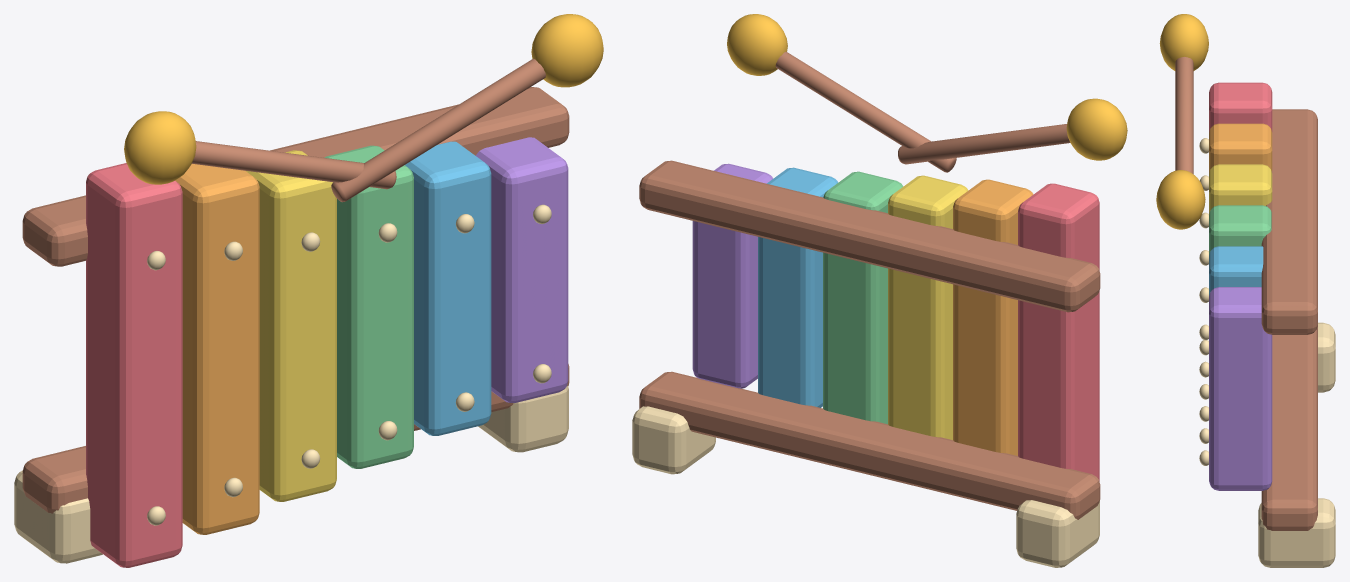
Rendered from xylophone.glb.
3 renders of one model, left to right at view 1: azimuth 30°, elevation 25°; view 2: azimuth 150°, elevation 25°; view 3: azimuth 270°, elevation 25°, orthographic. The views are drawn at different scales.
Parts seen in each view (by area): view 1: CMP_Music_Xylophone, CMP_Music_Xylophone_Rail_Top, CMP_Music_Xylophone_Mallet_R, CMP_Music_Xylophone_MalletHead_L, CMP_Music_Xylophone_Foot, CMP_Music_Xylophone_Mallet_L, CMP_Music_Xylophone_MalletHead_R, CMP_Music_Xylophone_Foot.001, CMP_Music_Xylophone_Rail_Bottom; view 2: CMP_Music_Xylophone, CMP_Music_Xylophone_Rail_Top, CMP_Music_Xylophone_Rail_Bottom, CMP_Music_Xylophone_Foot, CMP_Music_Xylophone_Foot.001, CMP_Music_Xylophone_Mallet_R, CMP_Music_Xylophone_Mallet_L, CMP_Music_Xylophone_MalletHead_L, CMP_Music_Xylophone_MalletHead_R; view 3: CMP_Music_Xylophone, CMP_Music_Xylophone_Rail_Top, CMP_Music_Xylophone_Rail_Bottom, CMP_Music_Xylophone_Foot.001, CMP_Music_Xylophone_MalletHead_R, CMP_Music_Xylophone_Mallet_L, CMP_Music_Xylophone_MalletHead_L, CMP_Music_Xylophone_Foot.
Part boxes in pixels (x1=…): CMP_Music_Xylophone: x1=86, y1=137, x2=568, y2=567; CMP_Music_Xylophone_Rail_Top: x1=22, y1=87, x2=569, y2=266; CMP_Music_Xylophone_Mallet_R: x1=331, y1=58, x2=545, y2=202; CMP_Music_Xylophone_MalletHead_L: x1=124, y1=111, x2=196, y2=184; CMP_Music_Xylophone_Foot: x1=14, y1=470, x2=102, y2=563; CMP_Music_Xylophone_Mallet_L: x1=192, y1=141, x2=396, y2=189; CMP_Music_Xylophone_MalletHead_R: x1=531, y1=14, x2=603, y2=87; CMP_Music_Xylophone_Foot.001: x1=478, y1=386, x2=568, y2=452; CMP_Music_Xylophone_Rail_Bottom: x1=22, y1=364, x2=569, y2=513; CMP_Music_Xylophone: x1=692, y1=163, x2=1099, y2=481; CMP_Music_Xylophone_Rail_Top: x1=639, y1=160, x2=1100, y2=312; CMP_Music_Xylophone_Rail_Bottom: x1=639, y1=371, x2=1100, y2=519; CMP_Music_Xylophone_Foot: x1=1016, y1=500, x2=1099, y2=567; CMP_Music_Xylophone_Foot.001: x1=632, y1=406, x2=715, y2=474; CMP_Music_Xylophone_Mallet_R: x1=775, y1=51, x2=956, y2=172; CMP_Music_Xylophone_Mallet_L: x1=898, y1=124, x2=1070, y2=164; CMP_Music_Xylophone_MalletHead_L: x1=1066, y1=98, x2=1127, y2=160; CMP_Music_Xylophone_MalletHead_R: x1=727, y1=14, x2=787, y2=75; CMP_Music_Xylophone: x1=1199, y1=82, x2=1272, y2=490; CMP_Music_Xylophone_Rail_Top: x1=1261, y1=109, x2=1317, y2=334; CMP_Music_Xylophone_Rail_Bottom: x1=1261, y1=325, x2=1317, y2=530; CMP_Music_Xylophone_Foot.001: x1=1258, y1=498, x2=1335, y2=567; CMP_Music_Xylophone_MalletHead_R: x1=1156, y1=170, x2=1205, y2=229; CMP_Music_Xylophone_Mallet_L: x1=1175, y1=57, x2=1193, y2=174; CMP_Music_Xylophone_MalletHead_L: x1=1159, y1=14, x2=1208, y2=70; CMP_Music_Xylophone_Foot: x1=1318, y1=322, x2=1335, y2=392.
Size of the model in its own units: 2.7 by 2.37 by 1.02.
